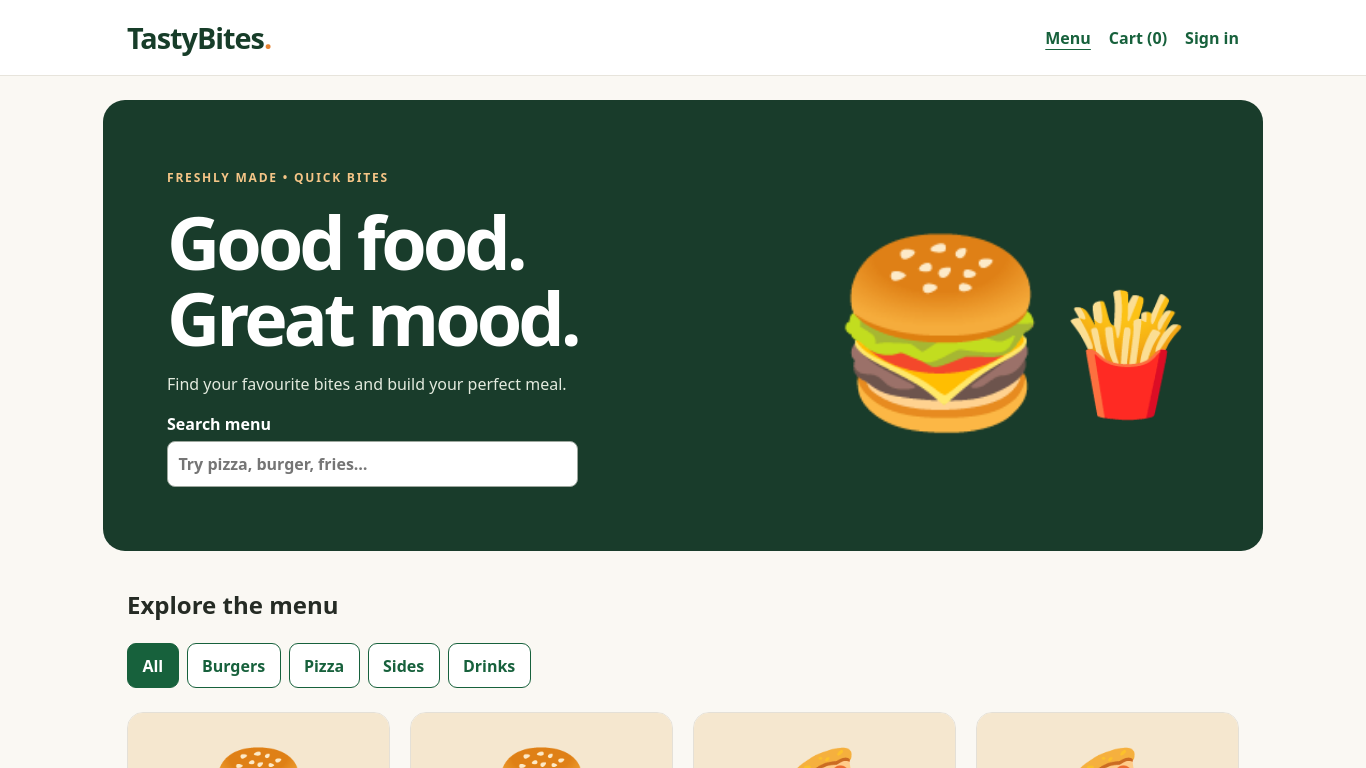
Test: search filters menu and shows empty result
In the search field: (372, 464) [167,441,578,487], type "pizza"
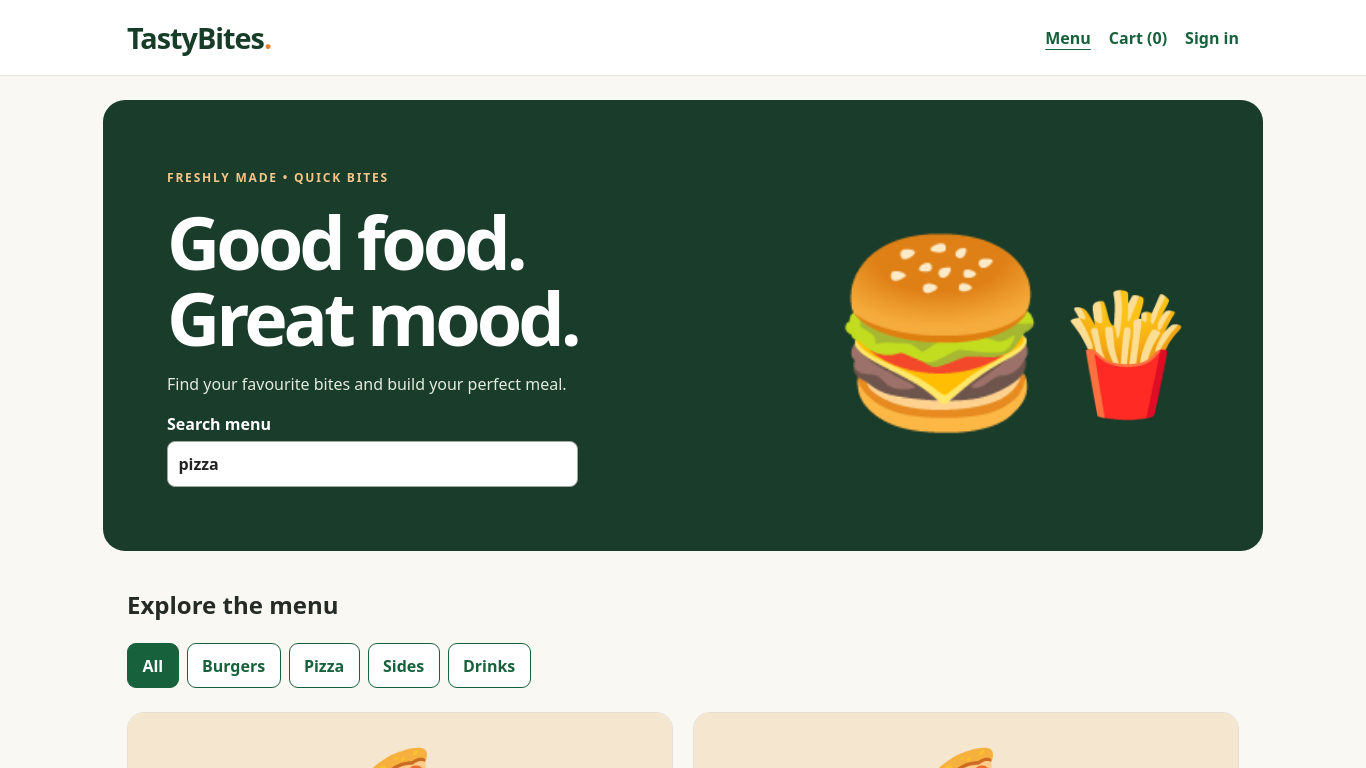
Replace the text in the search field with "xyz": (372, 464) [167,441,578,487]
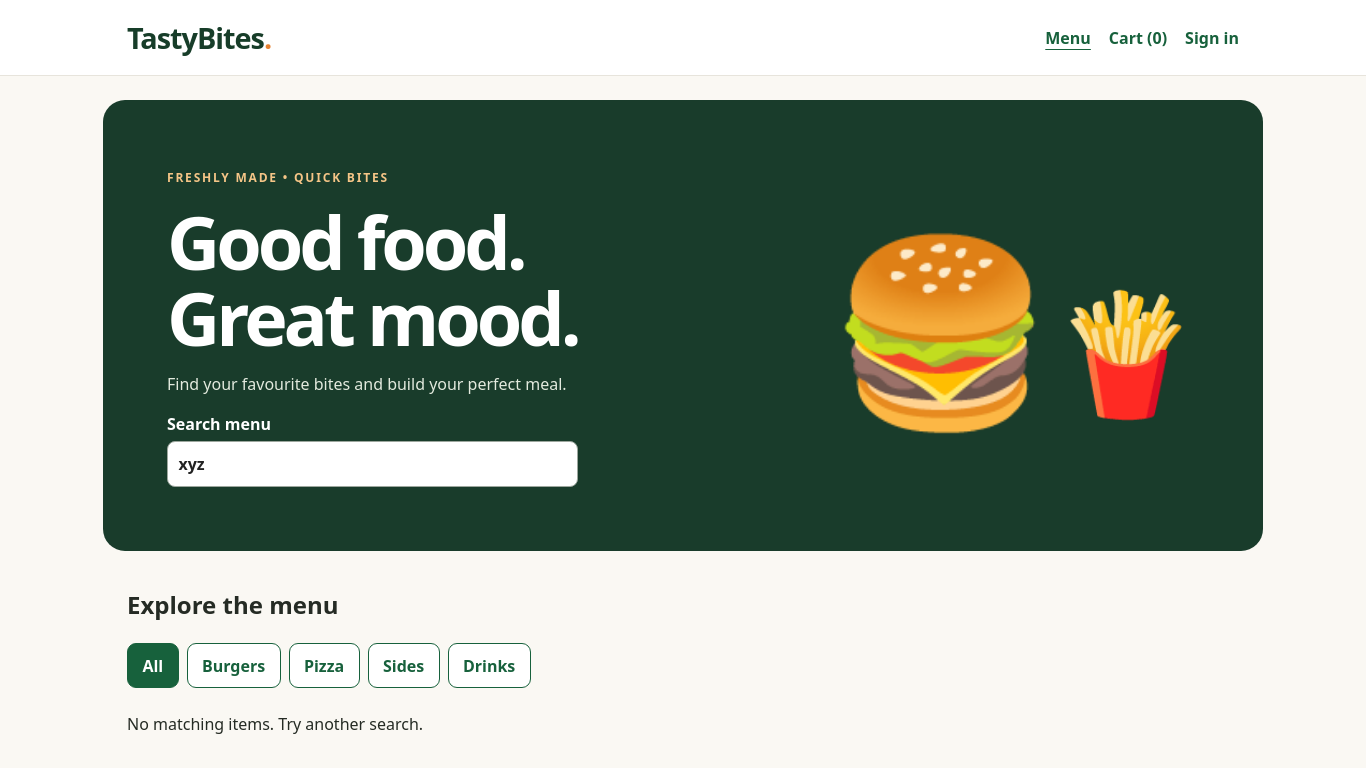
Now the text "No matching items. Try another search." is shown, box [127,714,423,736]
